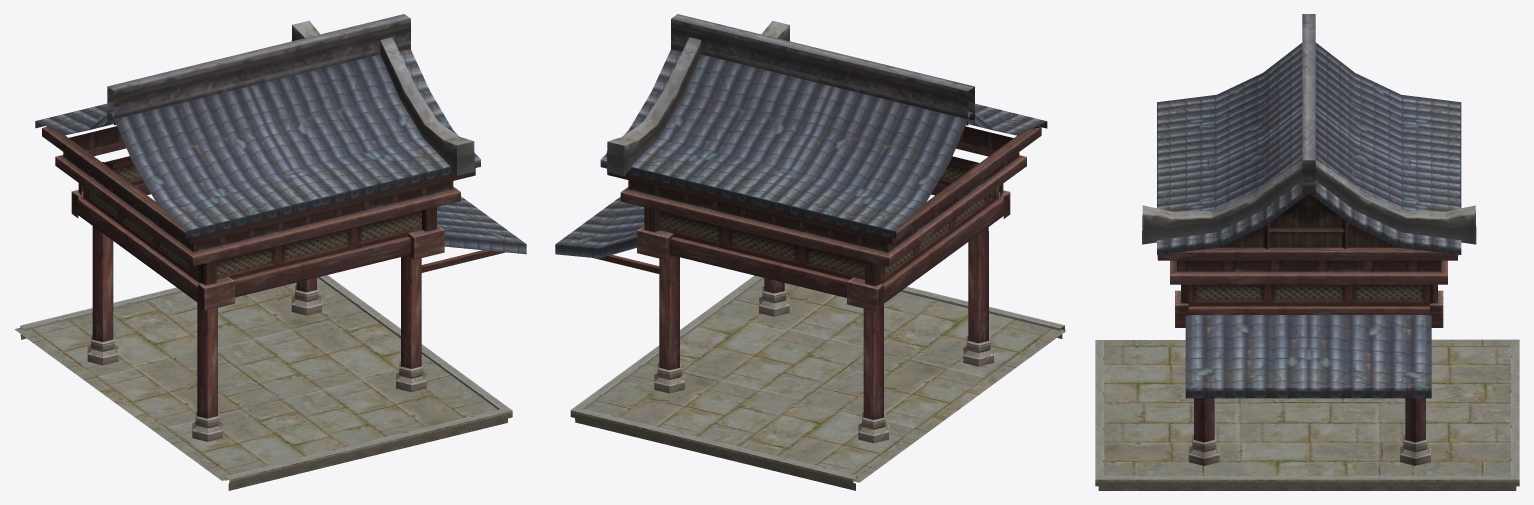
File: build_01_06.FBX
3 renders of one model, left to right at view 1: azimuth 30°, elevation 25°; view 2: azimuth 150°, elevation 25°; view 3: azimuth 270°, elevation 25°, orthographic.
Parts seen in each view (by area): view 1: segment_35, segment_37; view 2: segment_35, segment_37; view 3: segment_35, segment_37.
Part boxes in pixels (x1,y1,x2,y2): segment_35: [35, 14, 526, 441]; segment_37: [14, 275, 512, 490]; segment_35: [555, 14, 1047, 443]; segment_37: [570, 275, 1065, 490]; segment_35: [1142, 14, 1476, 465]; segment_37: [1095, 339, 1519, 490].
Bounding box in the file's own units: 235 × 208 × 241.
